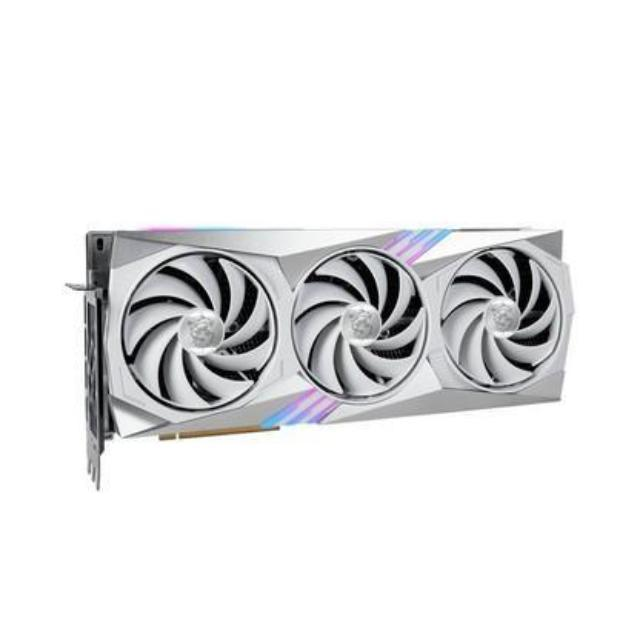GPU: (80, 225, 572, 426)
